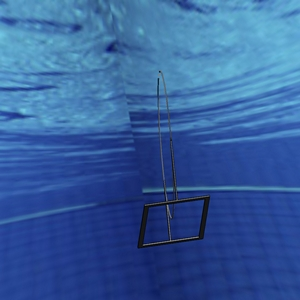circle: (135, 68, 211, 249)
